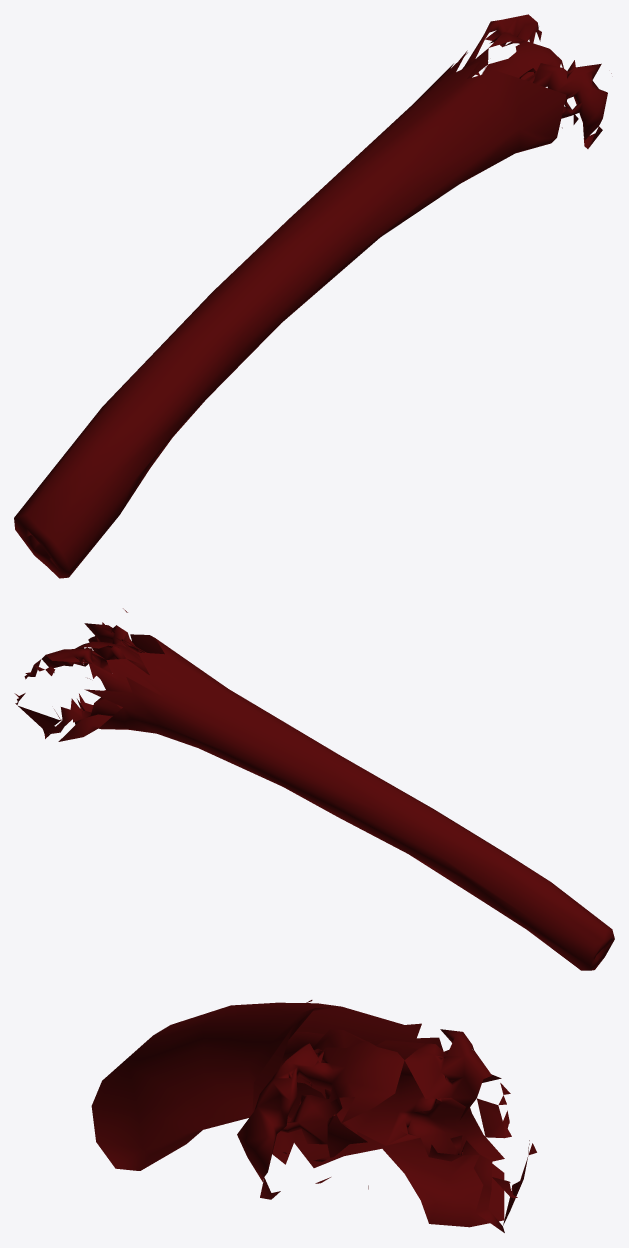
The model's file is FemorePrinc.obj.
3 renders of one model, top to bottom at view 1: azimuth 30°, elevation 25°; view 2: azimuth 150°, elevation 25°; view 3: azimuth 270°, elevation 25°, orthographic. The views are drawn at different scales.
Visible parts, largest first — view 1: GambaSingolaFemore.002; view 2: GambaSingolaFemore.002; view 3: GambaSingolaFemore.002.
Boxes of the visible parts, x1,y1,x2,y2 form: GambaSingolaFemore.002: (14,14,611,578); GambaSingolaFemore.002: (14,608,614,970); GambaSingolaFemore.002: (91,1000,536,1232).
Bounding box in the file's own units: 148 × 78.6 × 54.59.
